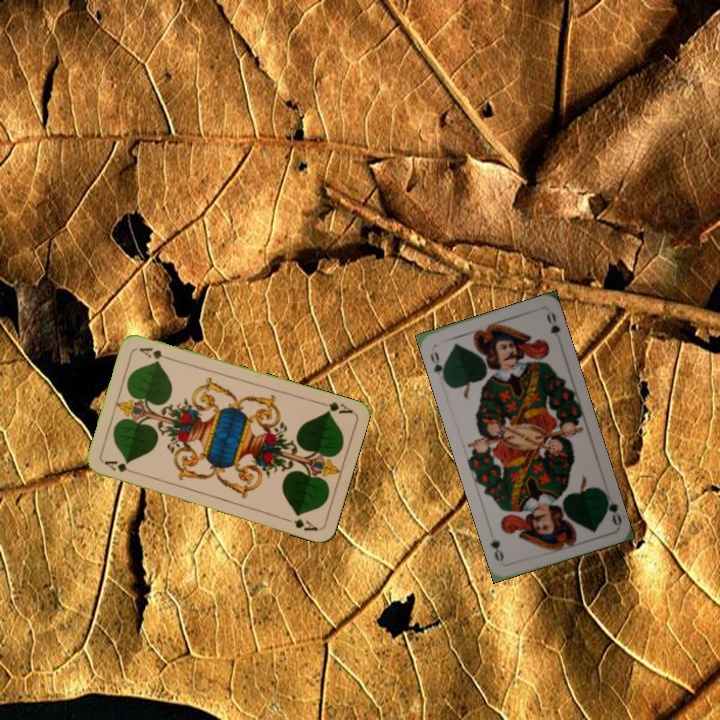GA: (101, 457, 140, 477), (315, 398, 355, 416)
GO: (600, 488, 624, 527), (426, 347, 448, 384)
